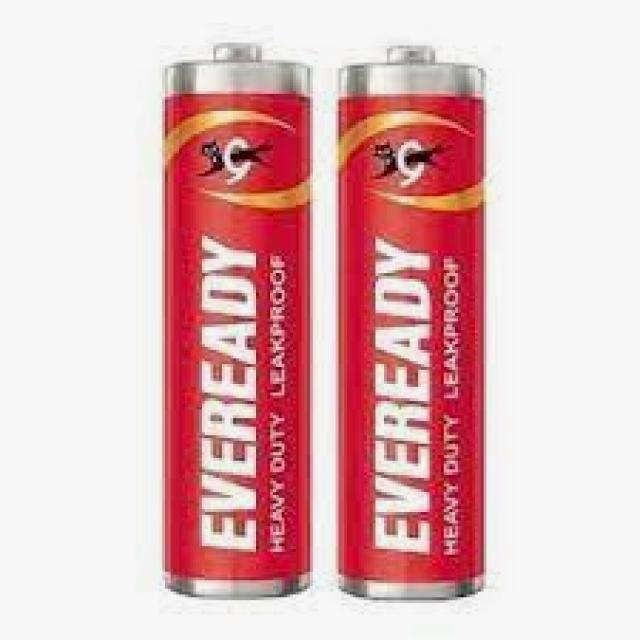battery: (334, 45, 486, 601), (163, 40, 312, 601)
